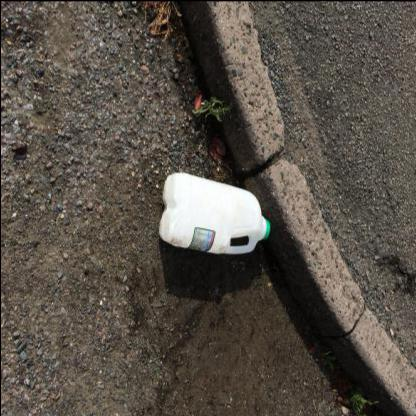Bottle: (261, 216, 269, 238)
Bottle cap: (158, 172, 270, 254)
